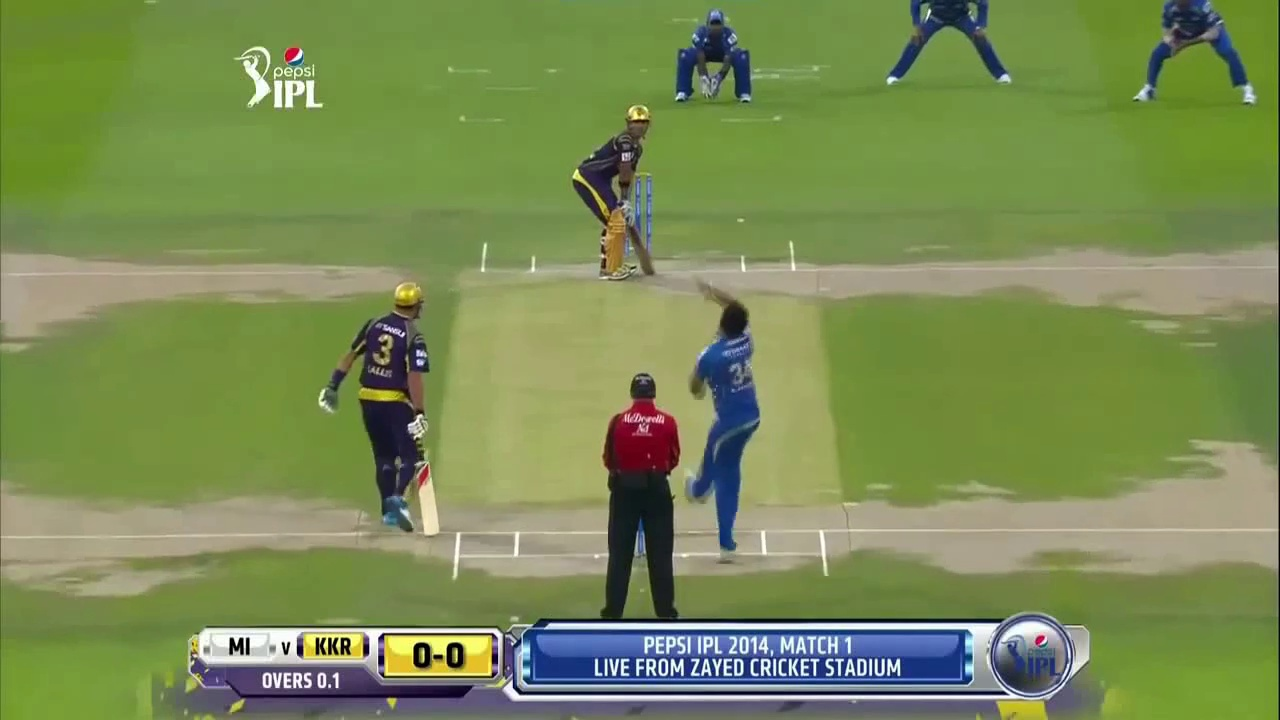bat: (414, 441, 440, 537), (630, 226, 656, 276)
stumps: (634, 170, 652, 215)
